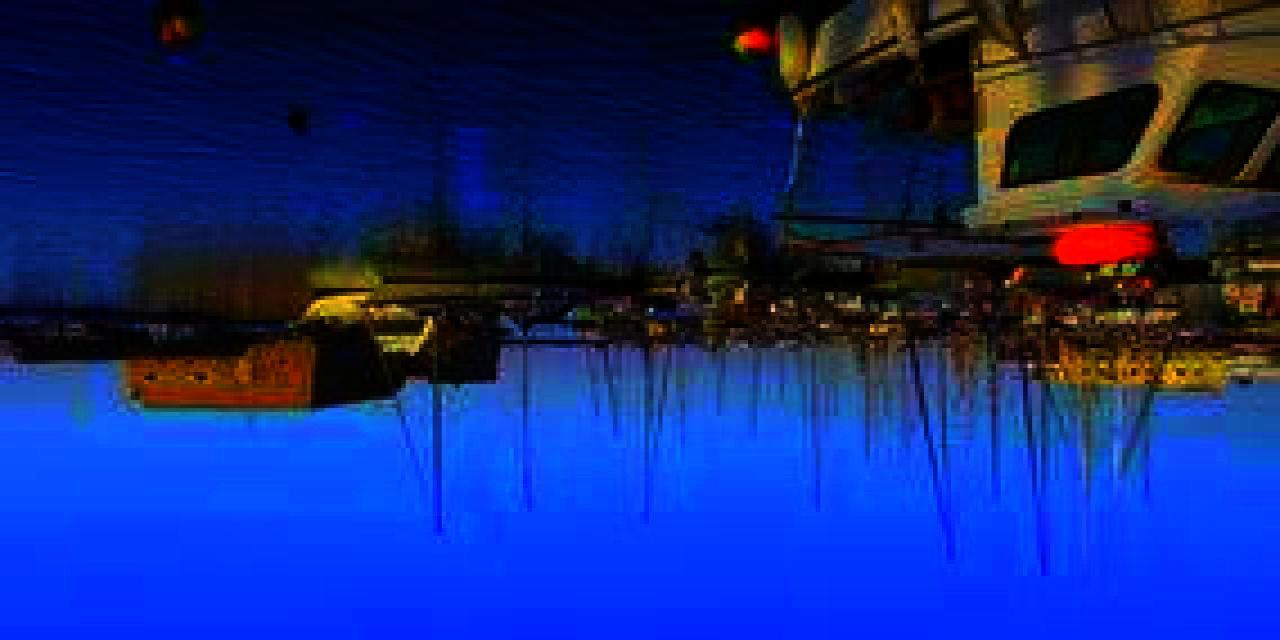Kules: (130, 324, 503, 420)
